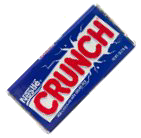grozi_50: (7, 5, 134, 133)
